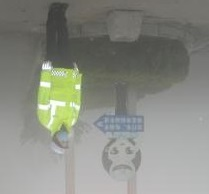person: (37, 3, 82, 154)
